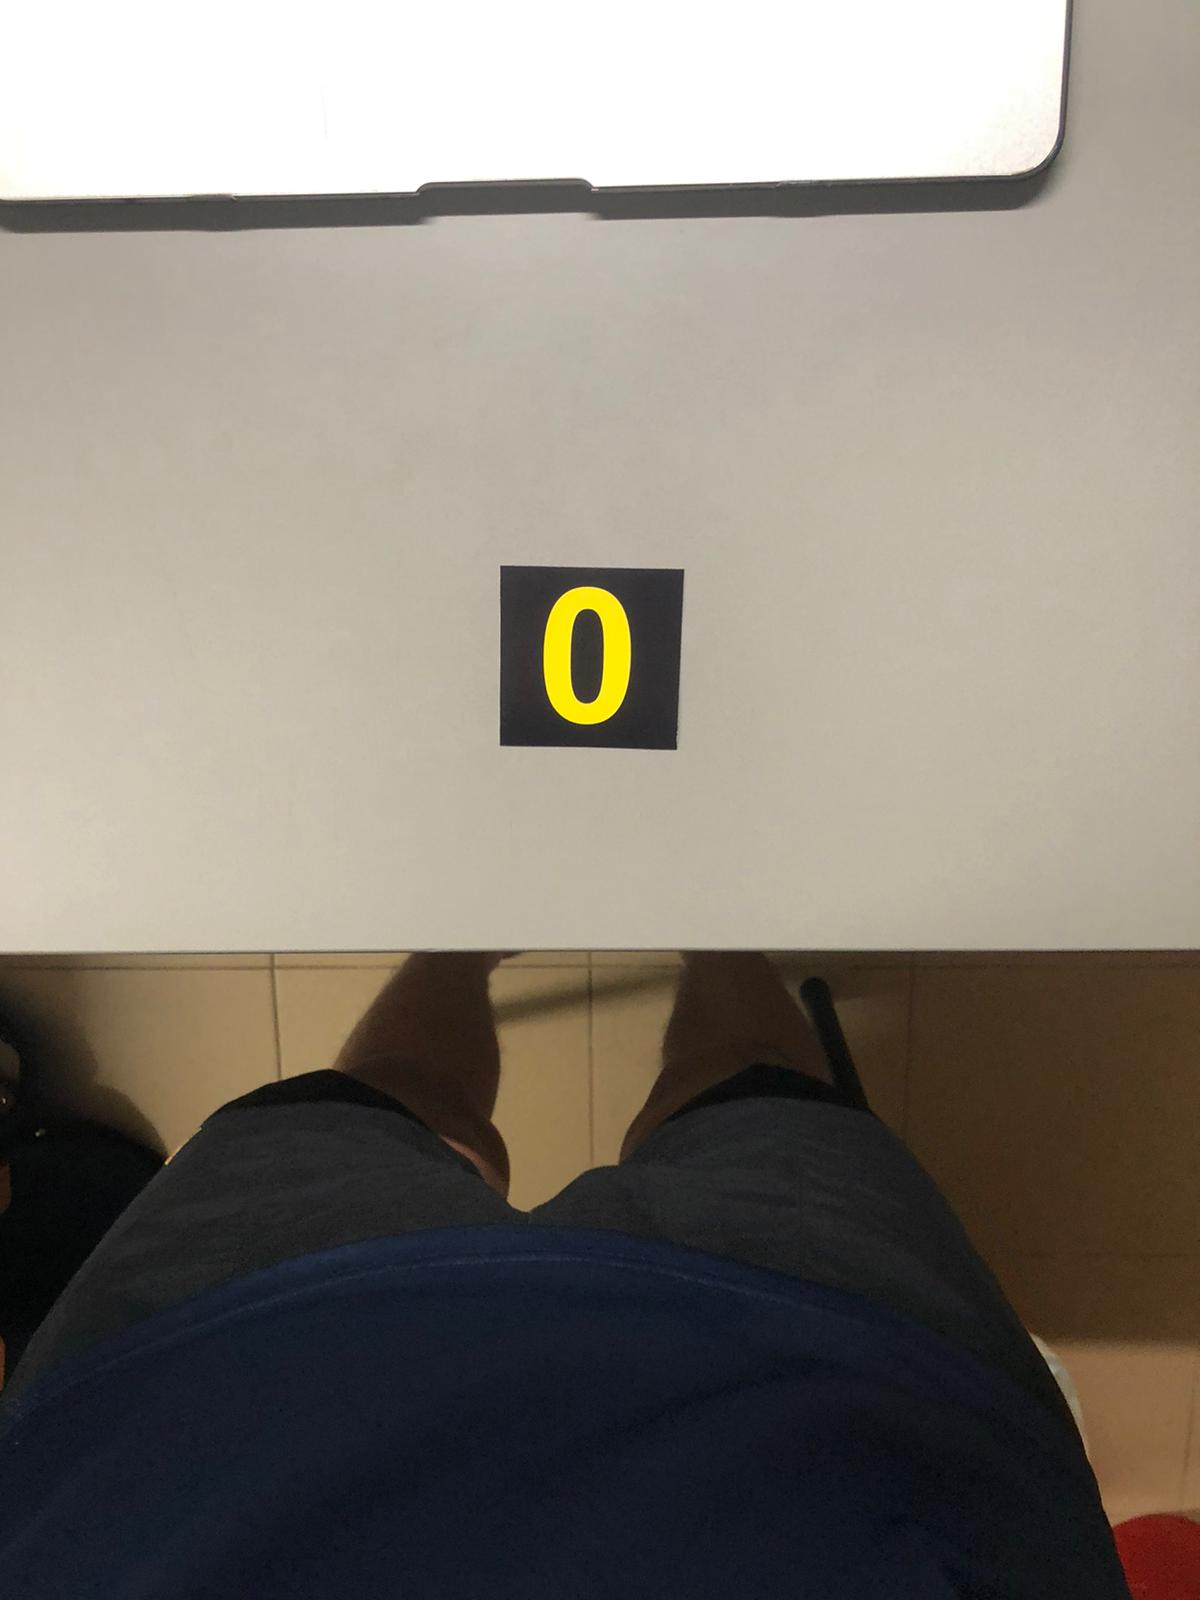Number 0: (497, 567, 677, 746)
